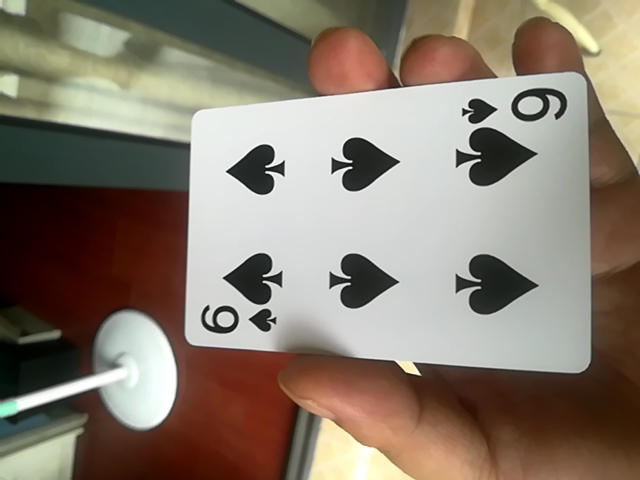ht 6: (178, 65, 606, 383)
